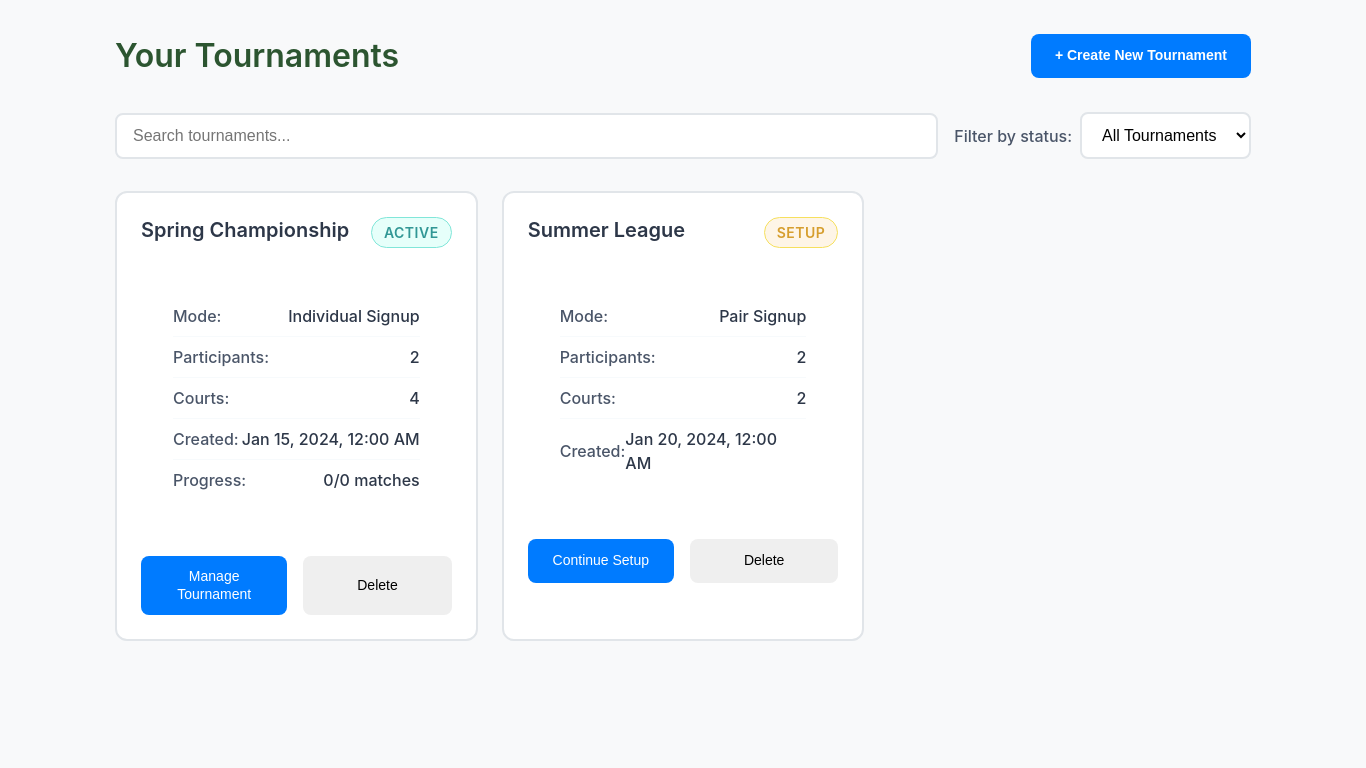
Test: TournamentList › shows delete confirmation modal
Click the button "Delete" below "Progress:": x=377, y=586 x1=303 y1=556 x2=452 y2=615
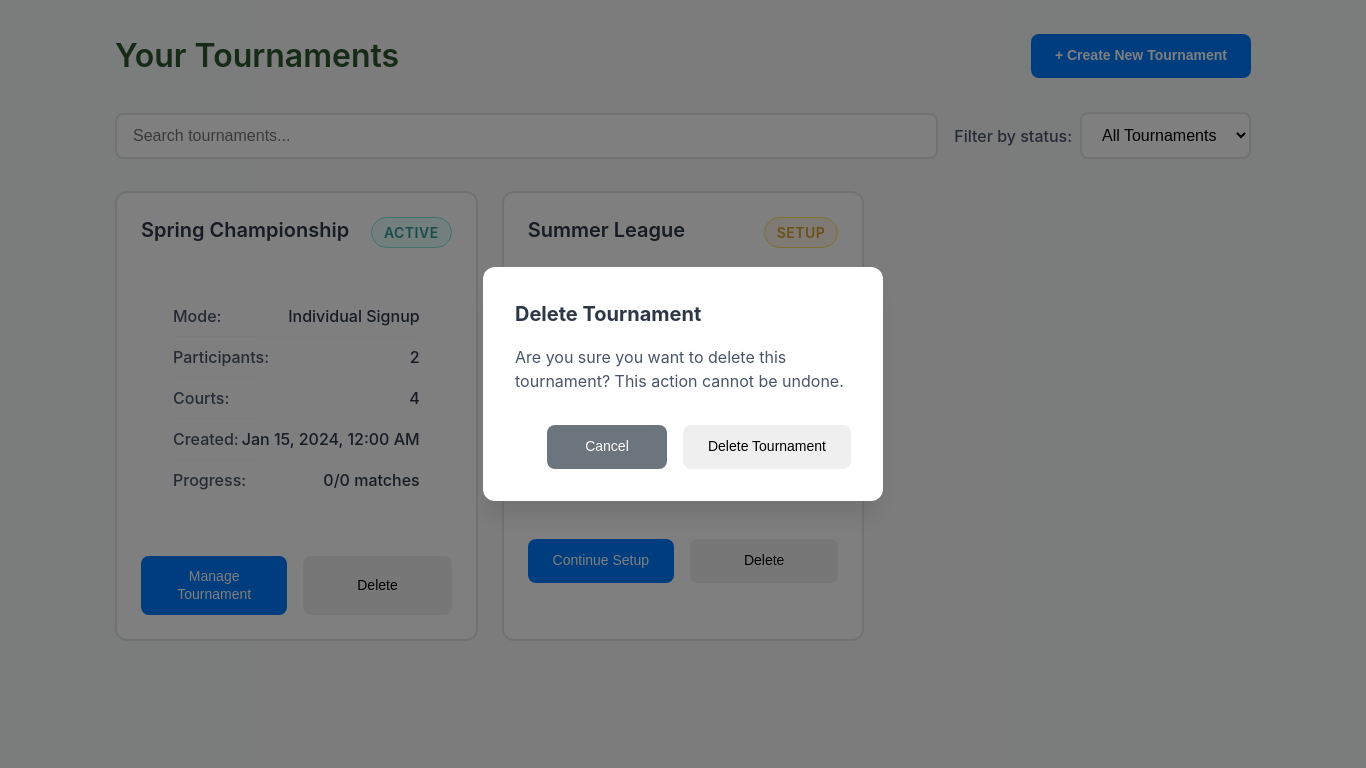
Now the heading "Delete Tournament" is shown, box x1=515 y1=302 x2=701 y2=326
Now the text "Are you sure you want to delete this tournament? This action cannot be undone." is shown, box x1=515 y1=345 x2=851 y2=393
